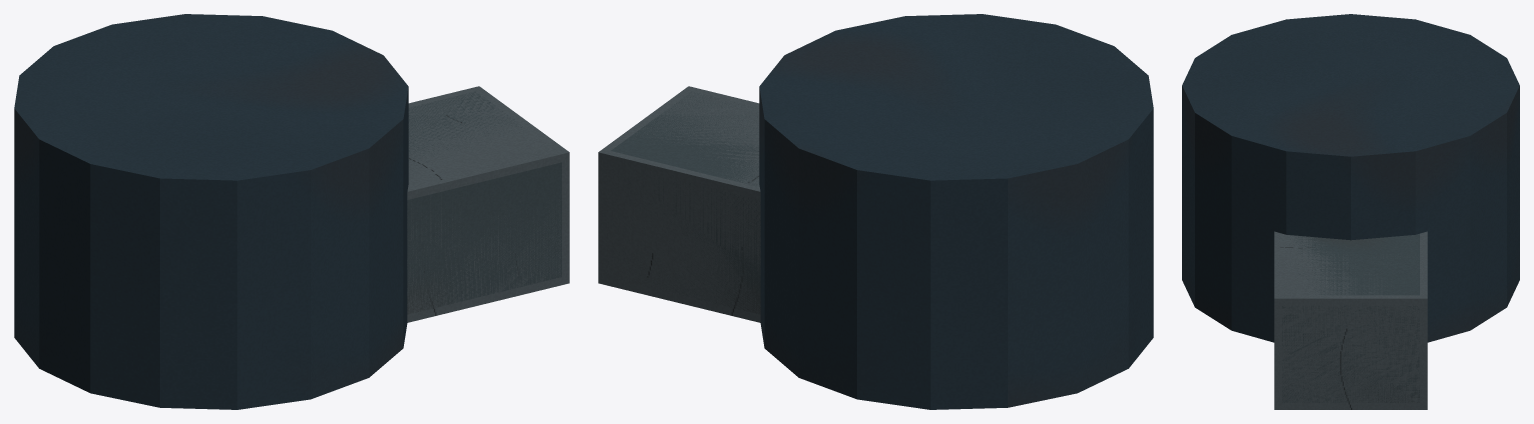
Rendered from Core_EnergyRuin.fbx.
The picture shows the model from 3 angles, left to right: view 1: azimuth 30°, elevation 25°; view 2: azimuth 150°, elevation 25°; view 3: azimuth 270°, elevation 25°; orthographic projection. The views are drawn at different scales.
Visible parts, largest first — view 1: COL_Foundry_Core_EnergyRuin_00_Both, ENV_Foundry_Core_EnergyRuin_LOD0, COL_Foundry_Core_EnergyRuin_01_Both; view 2: COL_Foundry_Core_EnergyRuin_00_Both, COL_Foundry_Core_EnergyRuin_01_Both, ENV_Foundry_Core_EnergyRuin_LOD0; view 3: COL_Foundry_Core_EnergyRuin_00_Both, COL_Foundry_Core_EnergyRuin_01_Both, ENV_Foundry_Core_EnergyRuin_LOD0.
Part boxes in pixels (x1,y1,x2,y2): COL_Foundry_Core_EnergyRuin_00_Both: (14, 14, 408, 409); ENV_Foundry_Core_EnergyRuin_LOD0: (407, 91, 561, 314); COL_Foundry_Core_EnergyRuin_01_Both: (407, 86, 569, 322); COL_Foundry_Core_EnergyRuin_00_Both: (759, 14, 1153, 409); COL_Foundry_Core_EnergyRuin_01_Both: (598, 86, 760, 322); ENV_Foundry_Core_EnergyRuin_LOD0: (606, 91, 760, 314); COL_Foundry_Core_EnergyRuin_00_Both: (1182, 14, 1519, 342); COL_Foundry_Core_EnergyRuin_01_Both: (1274, 231, 1427, 409); ENV_Foundry_Core_EnergyRuin_LOD0: (1282, 233, 1419, 402).
Size of what is drawn, in the model's own units: 1.55 by 0.7 by 1.1.
